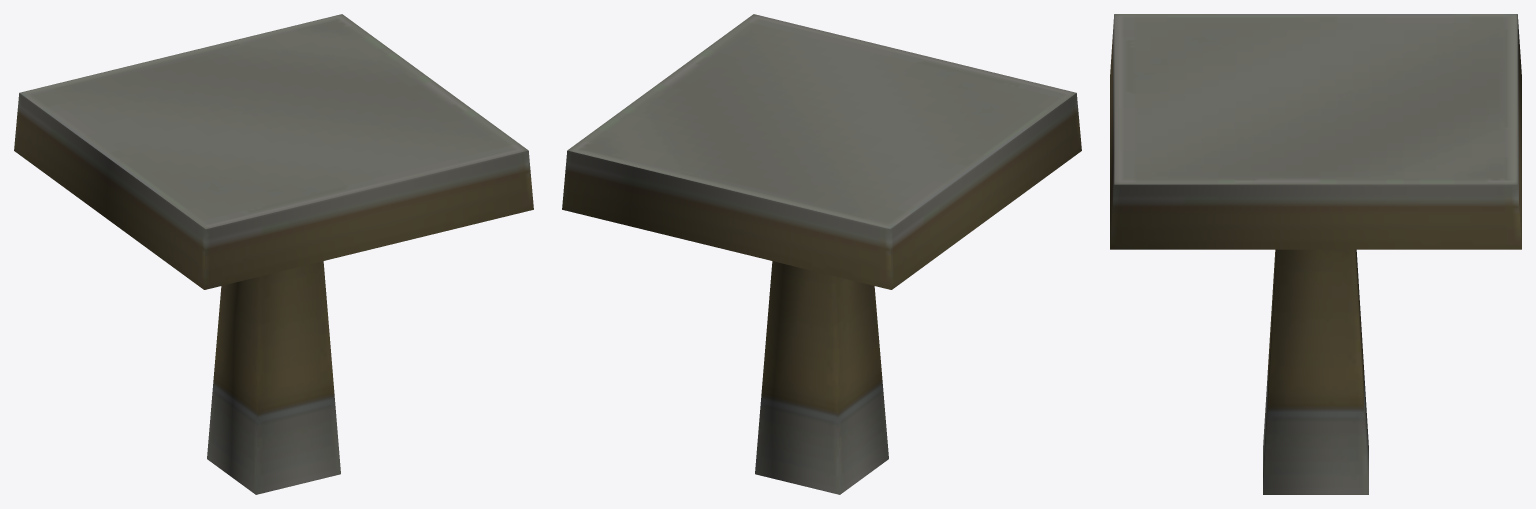
The model's file is table01.obj.
The picture shows the model from 3 angles, left to right: view 1: azimuth 30°, elevation 25°; view 2: azimuth 150°, elevation 25°; view 3: azimuth 270°, elevation 25°; orthographic projection. The views are drawn at different scales.
Visible parts, largest first — view 1: table01; view 2: table01; view 3: table01.
Boxes of the visible parts, box(x1,y1,x2,y2) form: table01: box(14, 14, 533, 494); table01: box(562, 14, 1081, 494); table01: box(1110, 14, 1521, 494).
Bounding box in the file's own units: 1 × 1 × 1.
Materials: 1 (1 with a texture image).
